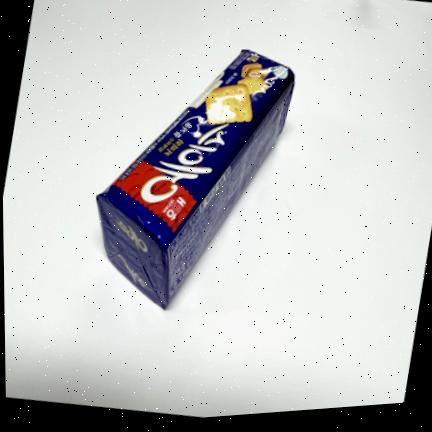cracker_ace: (96, 48, 295, 309)
